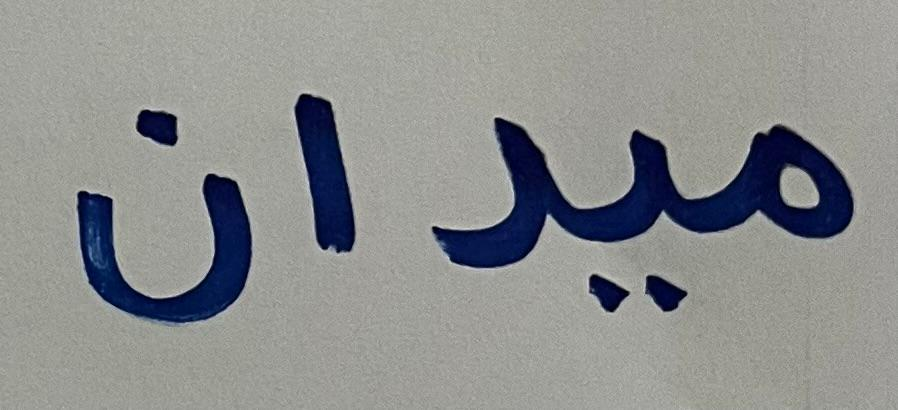alef: (268, 59, 402, 313)
dal: (412, 71, 556, 292)
meem: (710, 84, 874, 285)
noon: (45, 55, 264, 362)
yeh: (562, 88, 701, 336)
